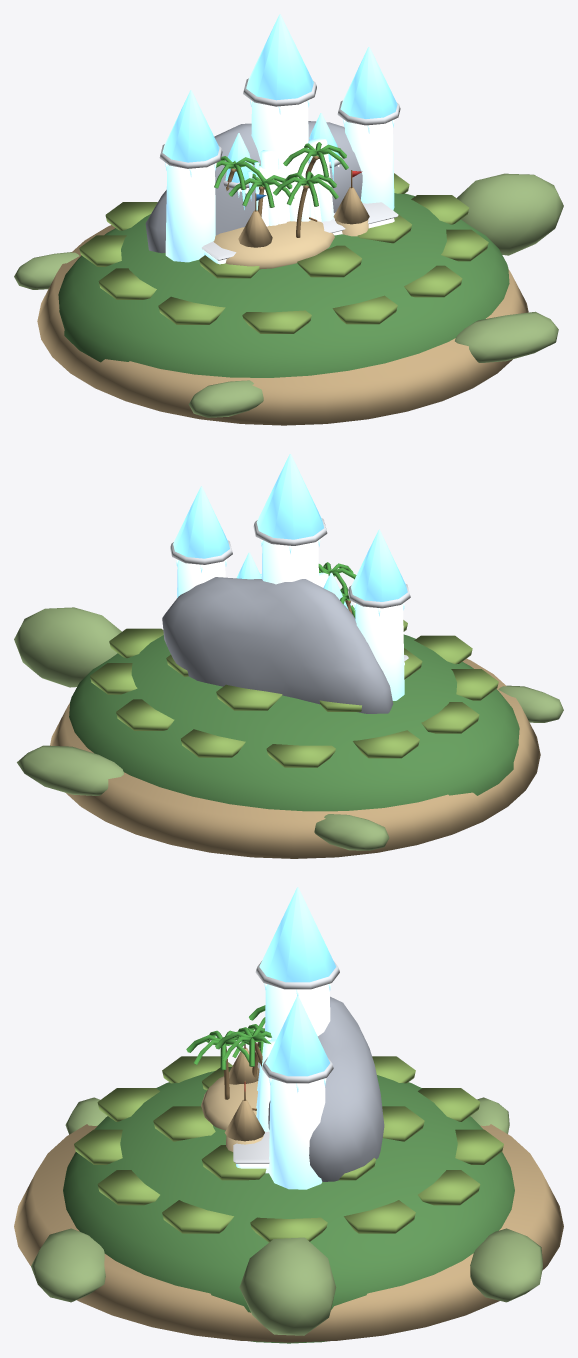
The model's file is bayice.glb.
3 views of the same model, one above another, from view 1: azimuth 30°, elevation 25°; view 2: azimuth 150°, elevation 25°; view 3: azimuth 270°, elevation 25° (orthographic). The views are drawn at different scales.
Parts seen in each view (by area): view 1: BY_TurtleIsle, IC_Palace, IC_Falls, BY_Sandcastle; view 2: BY_TurtleIsle, IC_Falls, IC_Palace; view 3: BY_TurtleIsle, IC_Palace, IC_Falls, BY_Sandcastle.
Part boxes in pixels (x1,y1,x2,y2): BY_TurtleIsle: (14, 142, 563, 425); IC_Palace: (159, 14, 400, 264); IC_Falls: (145, 121, 362, 253); BY_Sandcastle: (238, 170, 369, 247); BY_TurtleIsle: (14, 562, 563, 858); IC_Falls: (162, 572, 393, 713); IC_Palace: (170, 454, 410, 700); BY_TurtleIsle: (14, 1005, 563, 1343); IC_Palace: (233, 887, 339, 1189); IC_Falls: (256, 996, 384, 1181); BY_Sandcastle: (224, 1044, 264, 1151).
Size of the model in its own units: 71.2 by 50.32 by 62.4.
